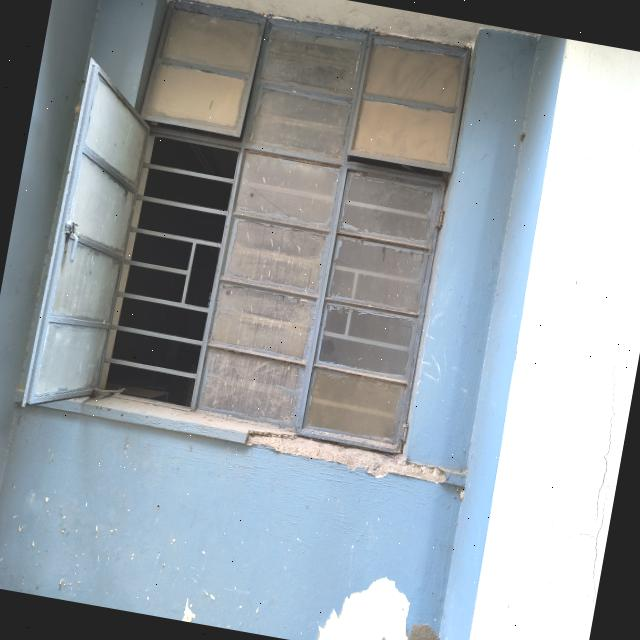Crack: (582, 478, 615, 636), (593, 401, 616, 527), (500, 524, 595, 539), (610, 330, 625, 403)
Paint Peeling: (0, 431, 399, 640), (316, 577, 409, 640)
Scaling: (246, 430, 445, 482)
